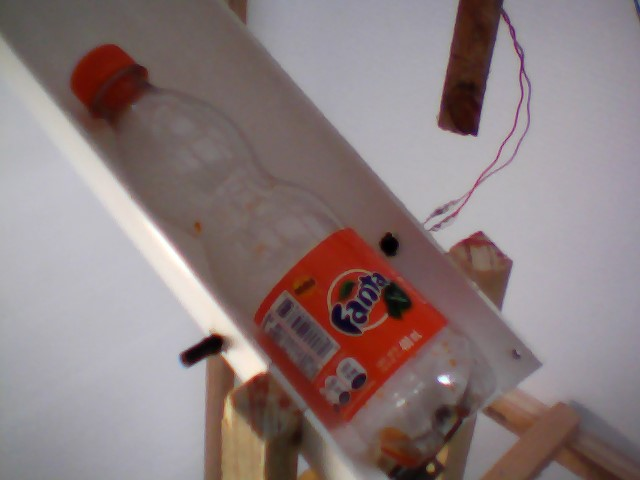plastico: (64, 37, 510, 480)
